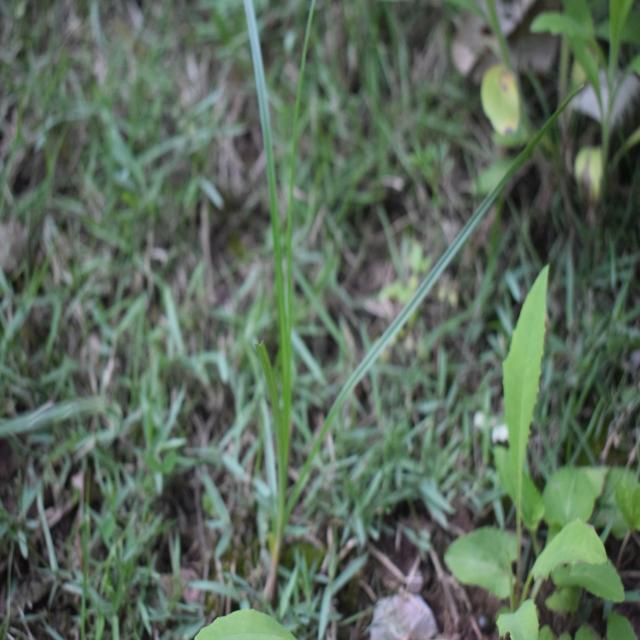sedge: (219, 0, 472, 509)
